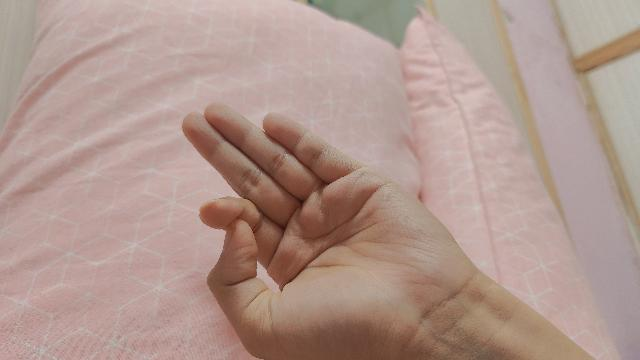aral: (181, 104, 594, 360)
